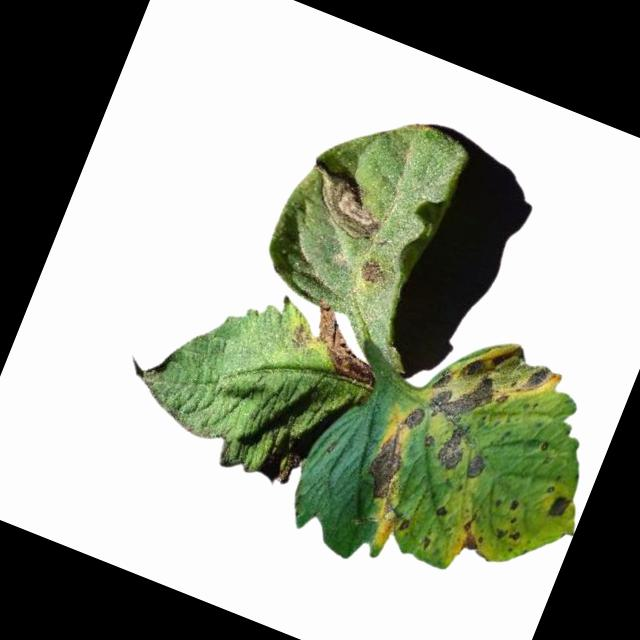Early_blight: (421, 319, 568, 456), (295, 295, 396, 389), (298, 157, 401, 247), (357, 423, 419, 506), (433, 419, 478, 474), (455, 513, 488, 557), (546, 488, 576, 522), (400, 402, 430, 434), (359, 256, 390, 286), (492, 521, 521, 547), (464, 452, 488, 481), (507, 497, 523, 514), (434, 502, 451, 518), (421, 432, 436, 448), (396, 517, 410, 534)
